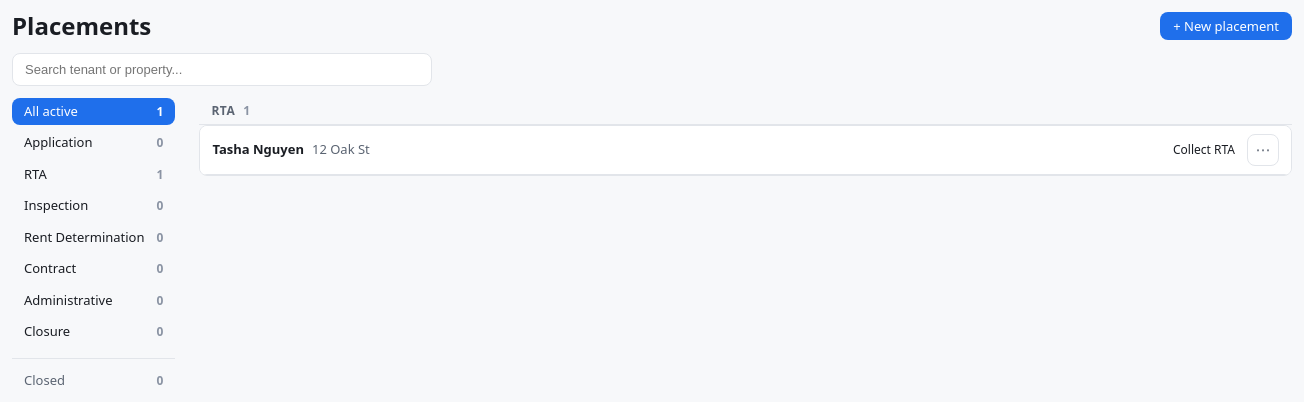
PlacementsPage › empty states: all-active empty and searched-empty messages
In the search field named "Search placements": (222, 69) [12,53,432,86], type "zzz"
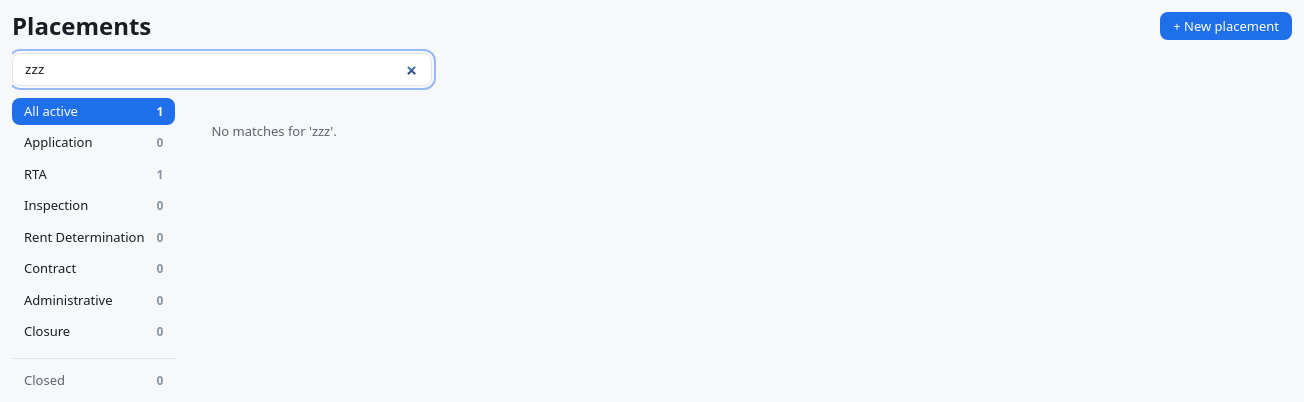
Expected: the text "No matches for 'zzz'." is shown, [211,122,337,140]
